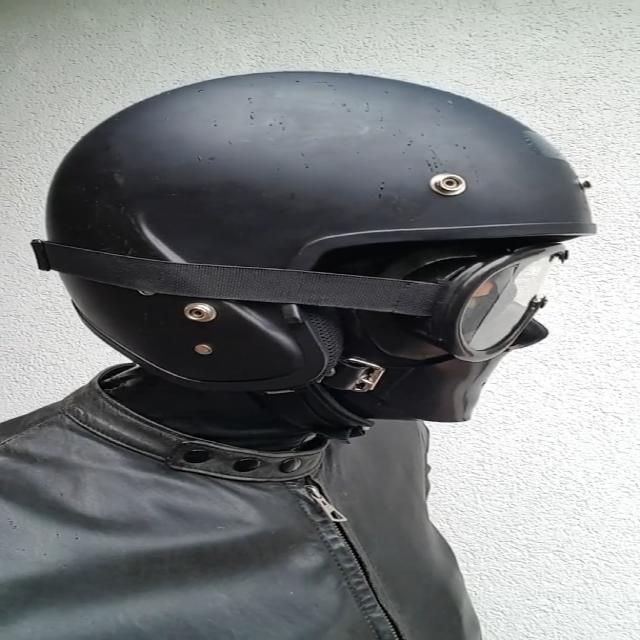Helmet_Wearer: (0, 67, 640, 440)
Jacket_Wearer: (0, 322, 521, 636)
Person: (0, 66, 591, 639)
